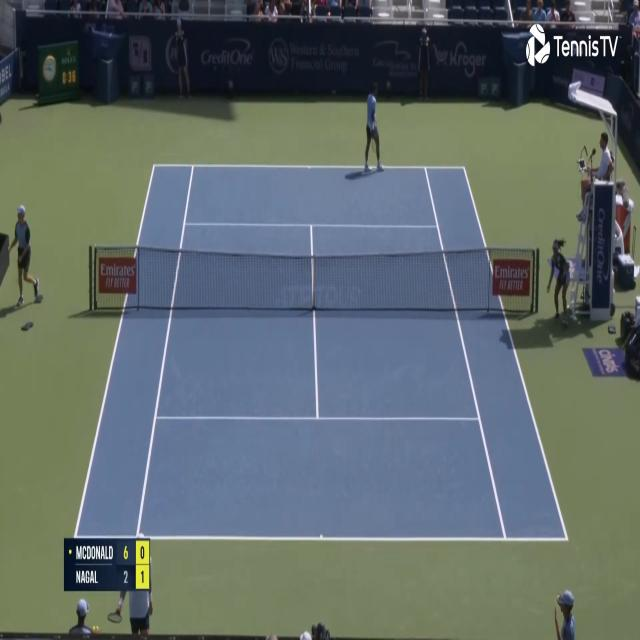tennis-player: (361, 80, 384, 174)
